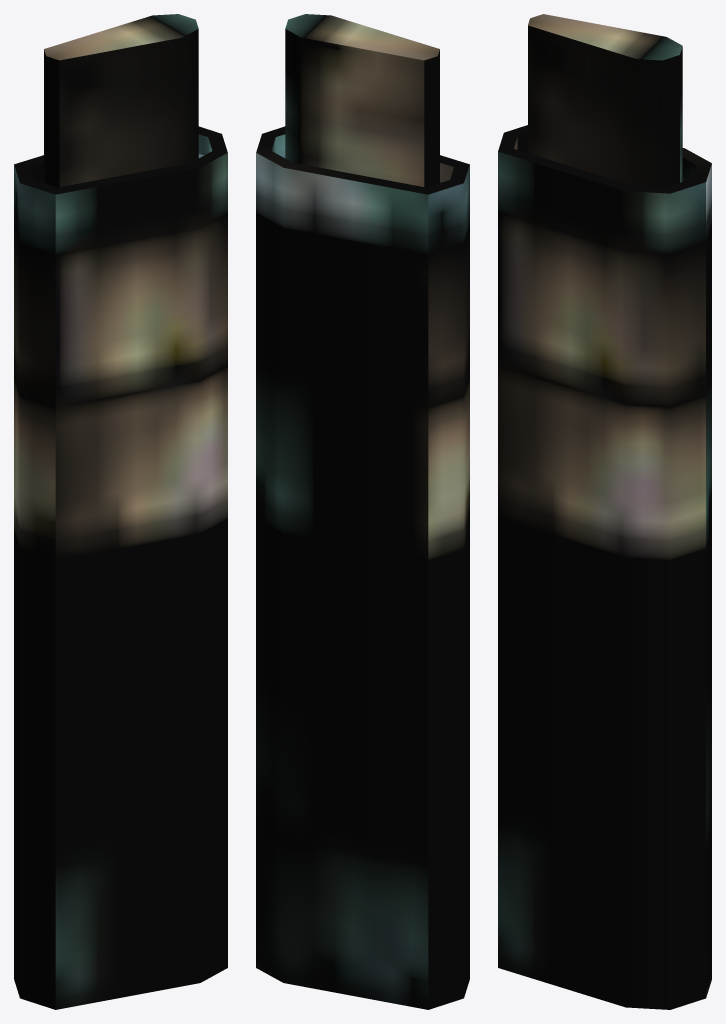
File: Building3.fbx
3 views of the same model, side by side, from view 1: azimuth 30°, elevation 25°; view 2: azimuth 150°, elevation 25°; view 3: azimuth 330°, elevation 25° (orthographic).
Parts seen in each view (by area): view 1: Cylinder; view 2: Cylinder; view 3: Cylinder.
Part boxes in pixels (x1,y1,x2,y2): Cylinder: [14, 14, 227, 1009]; Cylinder: [256, 14, 469, 1009]; Cylinder: [498, 14, 711, 1009].
Bounding box in the file's own units: 1509 × 6679 × 759.
